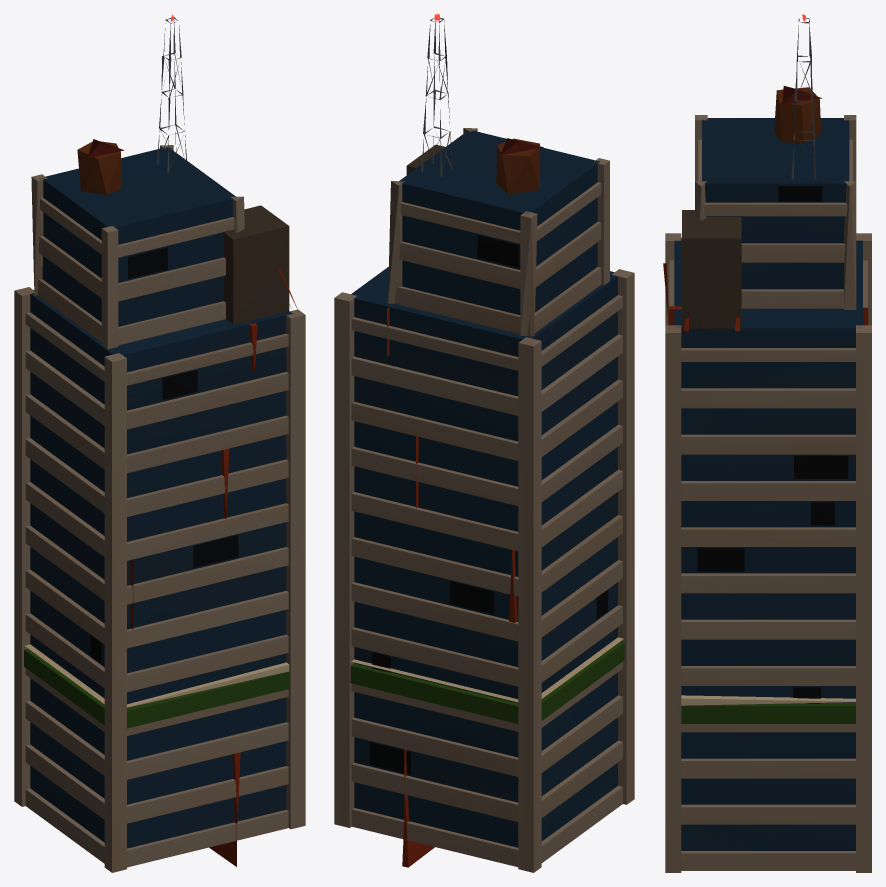
File: tb_tower_glass.three-web-toon.lod50.glb
3 renders of one model, left to right at view 1: azimuth 30°, elevation 25°; view 2: azimuth 150°, elevation 25°; view 3: azimuth 270°, elevation 25°, orthographic. The views are drawn at different scales.
Visible parts, largest first — view 1: tower_glass_body_lod; view 2: tower_glass_body_lod; view 3: tower_glass_body_lod.
Boxes of the visible parts, box(x1,y1,x2,y2) form: tower_glass_body_lod: box(14, 14, 305, 872); tower_glass_body_lod: box(334, 14, 634, 872); tower_glass_body_lod: box(663, 14, 871, 872).
Size of the model in its own units: 16.64 by 66.21 by 14.71.
